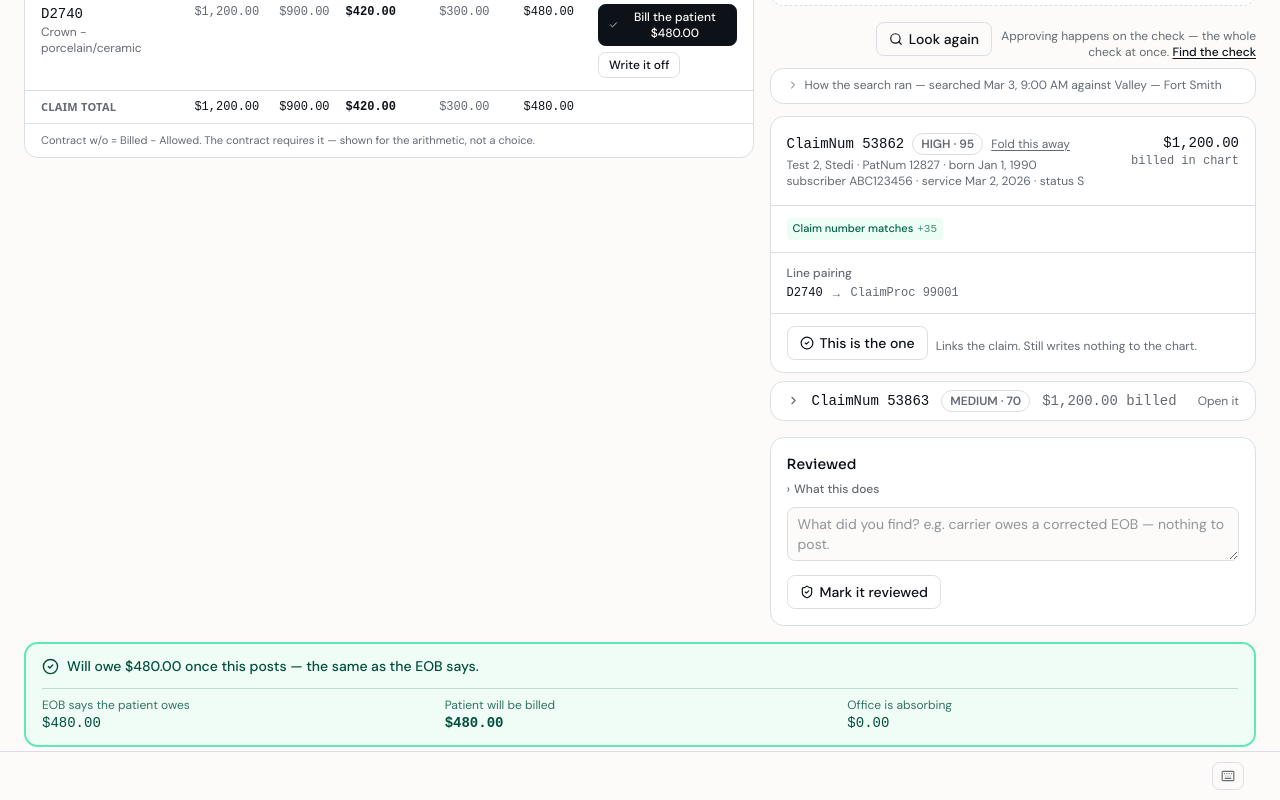
it: the claim screen folds its candidate list › restores a folded candidate whole, on one click
(page scrolled)
Click the button with test id "candidate-row-53863" at (1013, 400), box [770,380,1256,420]
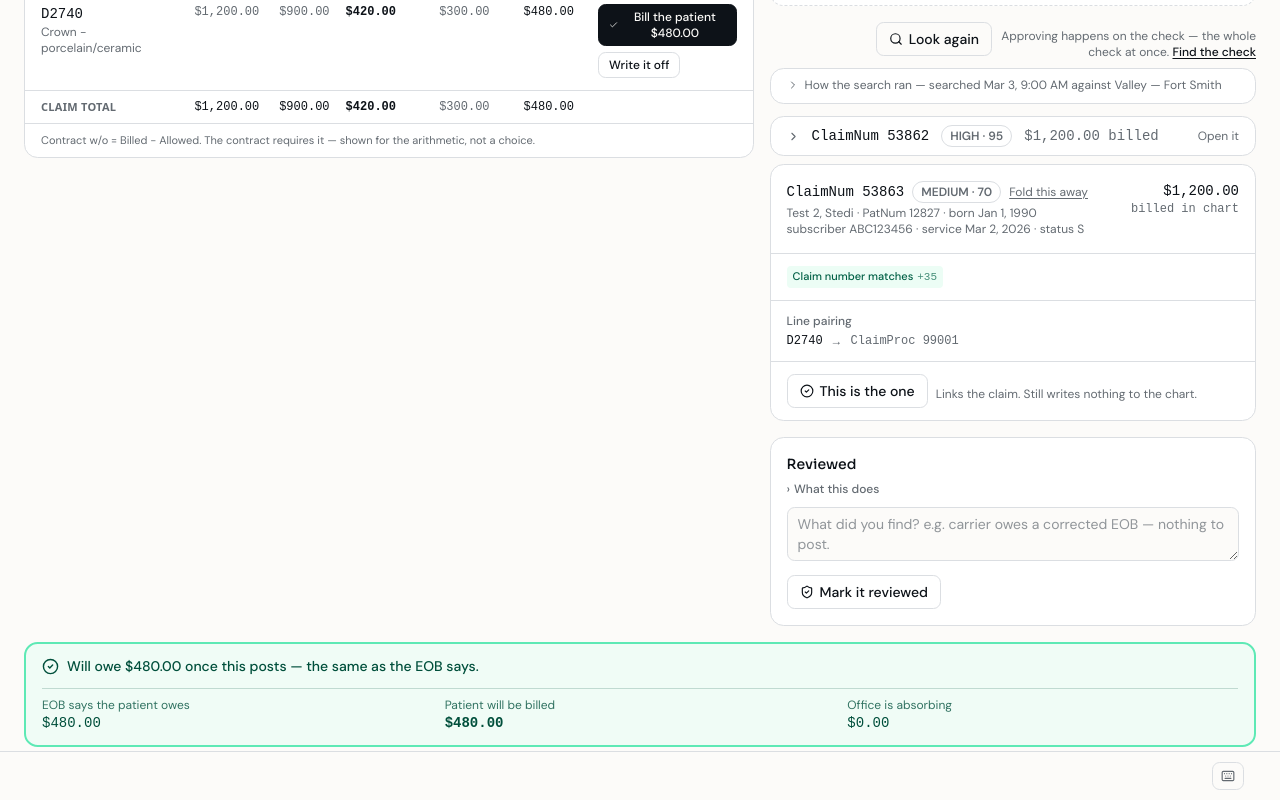
Expected: the element with test id "candidate-53863" is shown, [770,164,1256,420]
Expected: the element with test id "evidence-53863" is shown, [771,253,1255,300]
Expected: the button with test id "confirm-53863" is shown, [787,374,928,408]
